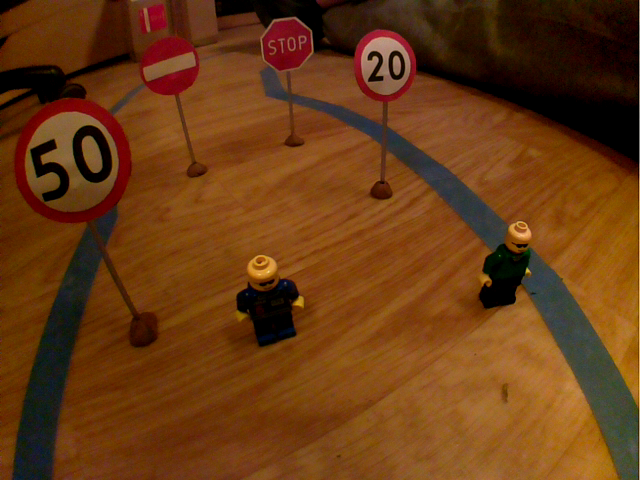Ograniczenie 20: (350, 26, 421, 105)
Ograniczenie 50: (10, 93, 136, 227)
Postac LEGO: (230, 251, 314, 353), (474, 216, 540, 319)
Stop: (257, 14, 318, 75)
Zakaz: (133, 31, 204, 99)
